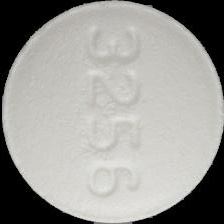49999-791: (0, 0, 224, 224)
